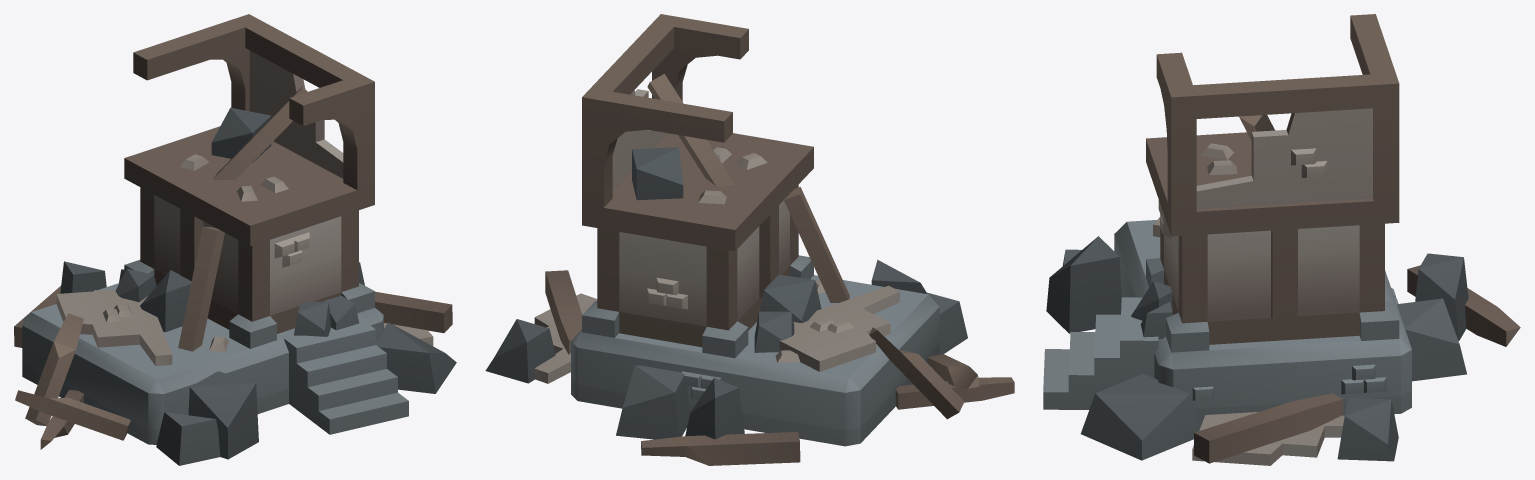
File: building_destroyed.gltf
3 renders of one model, left to right at view 1: azimuth 30°, elevation 25°; view 2: azimuth 150°, elevation 25°; view 3: azimuth 270°, elevation 25°, orthographic. The views are drawn at different scales.
Visible parts, largest first — view 1: building_destroyed; view 2: building_destroyed; view 3: building_destroyed.
Boxes of the visible parts, bbox=[...] form: building_destroyed: bbox=[14, 14, 456, 465]; building_destroyed: bbox=[485, 14, 1014, 465]; building_destroyed: bbox=[1043, 14, 1520, 465].
Bounding box in the file's own units: 1.54 × 0.9939 × 1.31.
1 material, 1 textured.
